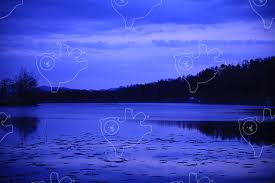lake: (8, 104, 270, 183)
sky: (3, 1, 268, 69)
